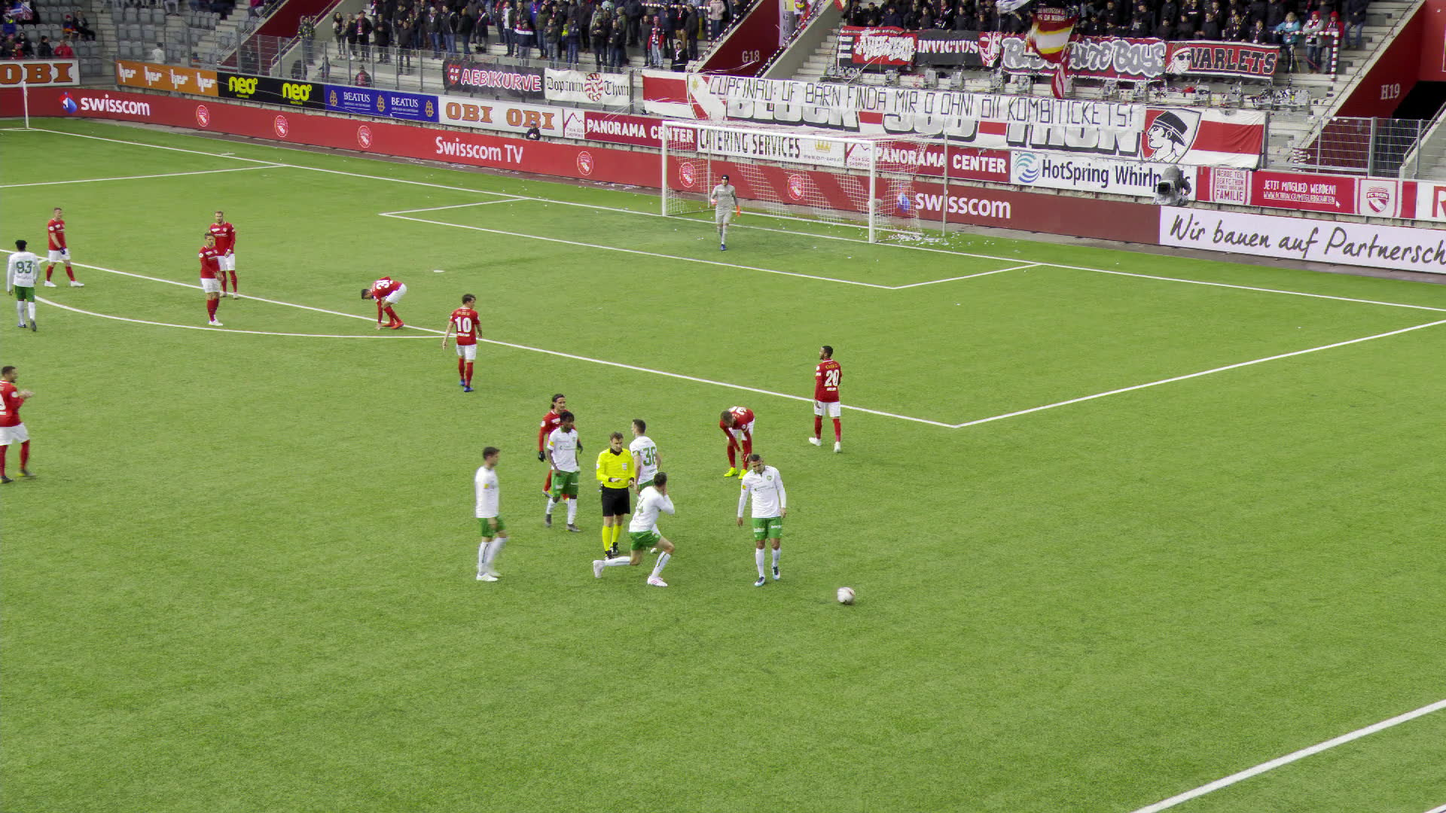ball: (842, 588, 862, 604)
player: (598, 473, 675, 586), (740, 447, 789, 583), (460, 446, 508, 580), (535, 391, 580, 502), (540, 412, 581, 529), (627, 426, 665, 542), (807, 345, 845, 452), (0, 367, 35, 481), (442, 294, 482, 393), (43, 208, 83, 288), (5, 240, 38, 332), (716, 405, 754, 478), (207, 211, 236, 301), (195, 235, 224, 324), (361, 276, 407, 330), (708, 174, 738, 250)
referee: (594, 431, 635, 559)
